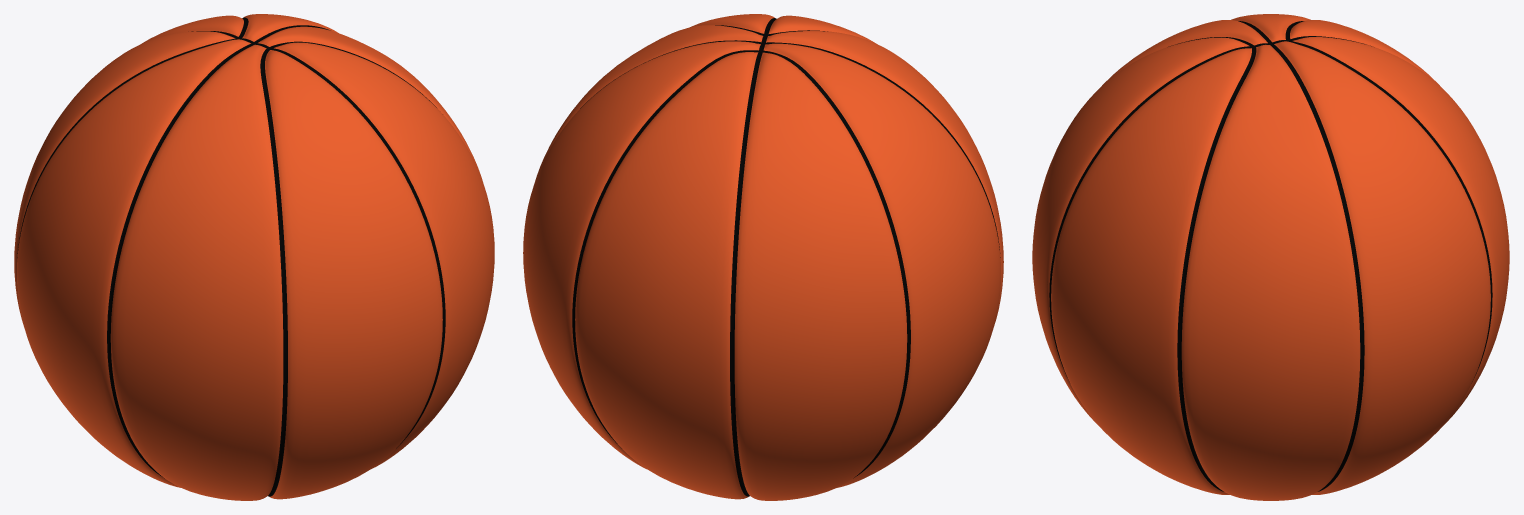
Rendered from Basketball.fbx.
3 renders of one model, left to right at view 1: azimuth 30°, elevation 25°; view 2: azimuth 150°, elevation 25°; view 3: azimuth 270°, elevation 25°, orthographic.
Visible parts, largest first — view 1: Sphere; view 2: Sphere; view 3: Sphere.
Boxes of the visible parts, x1=… form: Sphere: x1=14, y1=14, x2=494, y2=500; Sphere: x1=523, y1=14, x2=1003, y2=500; Sphere: x1=1032, y1=14, x2=1509, y2=500.
Bounding box in the file's own units: 194 × 196 × 194.
